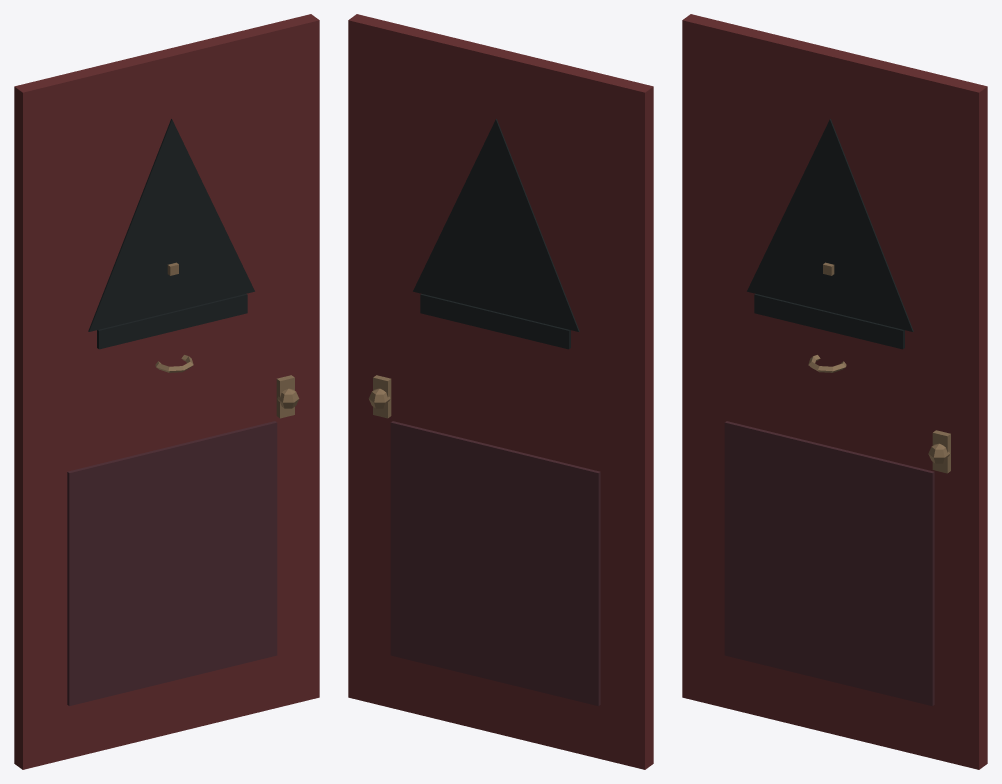
Rendered from usa_lexy.glb.
3 views of the same model, side by side, from view 1: azimuth 30°, elevation 25°; view 2: azimuth 150°, elevation 25°; view 3: azimuth 330°, elevation 25° (orthographic).
Visible parts, largest first — view 1: Usa; view 2: Usa; view 3: Usa.
Part boxes in pixels (<box>): Usa: <box>14,14,319,769</box>; Usa: <box>348,14,653,769</box>; Usa: <box>682,14,987,769</box>.
Size of the model in its own units: 1 by 2.18 by 0.182.
